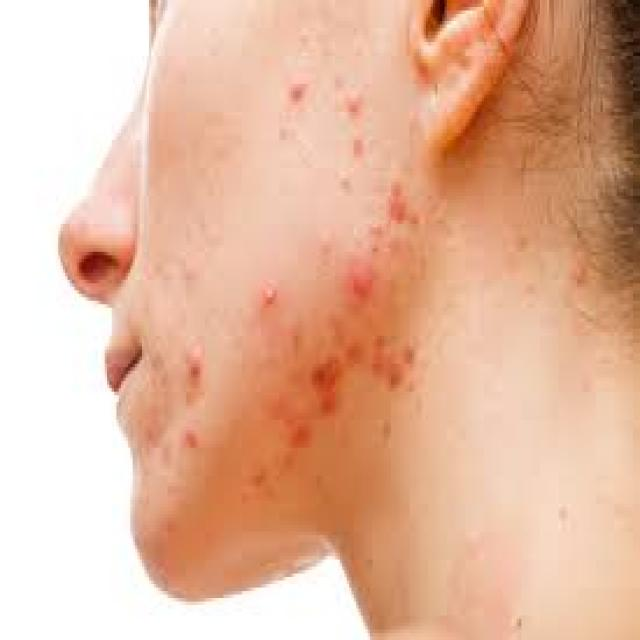Acne: (370, 329, 419, 394), (339, 250, 383, 310), (311, 352, 344, 416), (181, 335, 208, 393), (386, 180, 414, 231), (310, 228, 340, 267), (287, 412, 315, 449), (284, 72, 311, 110), (256, 275, 282, 314), (178, 420, 204, 458), (267, 382, 292, 416), (570, 250, 590, 291), (343, 86, 367, 120), (347, 127, 372, 159), (366, 213, 388, 245), (336, 166, 356, 198), (343, 333, 362, 364), (331, 67, 346, 95)
